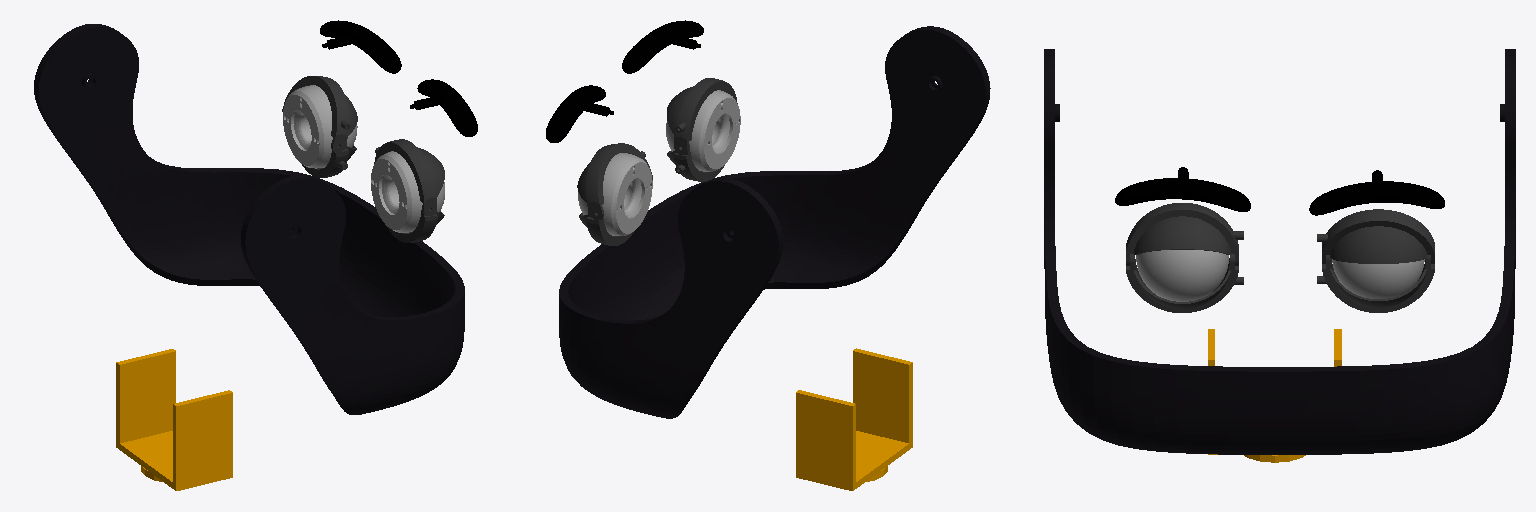
URDF robot description (doris_head):
<?xml version="1.0"?>
<!-- created with Phobos 1.0.1 "Capricious Choutengan" -->
  <robot name="doris_head">

    <link name="head_link">
      <inertial>
        <origin xyz="0 0 0" rpy="0 0 0"/>
        <mass value="0.001"/>
        <inertia ixx="0.001" ixy="0" ixz="0" iyy="0.001" iyz="0" izz="0.001"/>
      </inertial>
      <visual name="head">
        <origin xyz="-0.02248 -0.11374 -0.02141" rpy="1.5708 0 0"/>
        <geometry>
          <mesh filename="package://rosto_teste/meshes/dae/Cube.001.dae" scale="0.001 0.001 0.001"/>
        </geometry>
        <material name="Gray_001"/>
      </visual>
    </link>

    <link name="jaw_link">
      <inertial>
        <origin xyz="0 0 0" rpy="0 0 0"/>
        <mass value="0.001"/>
        <inertia ixx="0.001" ixy="0" ixz="0" iyy="0.001" iyz="0" izz="0.001"/>
      </inertial>
      <visual name="jaw">
        <origin xyz="0.05463 0.06043 -0.08008" rpy="1.5708 0 0"/>
        <geometry>
          <mesh filename="package://rosto_teste/meshes/dae/Plane.012.dae" scale="0.001 0.001 0.001"/>
        </geometry>
        <material name="Face_000"/>
      </visual>
    </link>

    <link name="left_eye_horizontal_link">
      <inertial>
        <origin xyz="0 0 0" rpy="0 0 0"/>
        <mass value="0.001"/>
        <inertia ixx="0.001" ixy="0" ixz="0" iyy="0.001" iyz="0" izz="0.001"/>
      </inertial>
    </link>

    <link name="left_eye_vertical_link">
      <inertial>
        <origin xyz="0 0 0" rpy="0 0 0"/>
        <mass value="0.001"/>
        <inertia ixx="0.001" ixy="0" ixz="0" iyy="0.001" iyz="0" izz="0.001"/>
      </inertial>
      <visual name="left_eye">
        <origin xyz="0 0 0" rpy="-1.5708 0 0"/>
        <geometry>
          <mesh filename="package://rosto_teste/meshes/dae/Cube.002.dae" scale="0.001 0.001 0.001"/>
        </geometry>
        <material name="WHITE_003"/>
      </visual>
    </link>

    <link name="left_inferior_eyelid_link">
      <inertial>
        <origin xyz="0 0 0" rpy="0 0 0"/>
        <mass value="0.001"/>
        <inertia ixx="0.001" ixy="0" ixz="0" iyy="0.001" iyz="0" izz="0.001"/>
      </inertial>
      <visual name="left_inferior_eyelid">
        <origin xyz="0.00498 -0.01247 -0.02356" rpy="-1.56706 -0.06102 -0.06125"/>
        <geometry>
          <mesh filename="package://rosto_teste/meshes/dae/Plane.015.dae" scale="0.001 0.001 0.001"/>
        </geometry>
        <material name="Gray_001"/>
      </visual>
    </link>

    <link name="left_rotacional_eyebrow_link">
      <inertial>
        <origin xyz="0 0 0" rpy="0 0 0"/>
        <mass value="0.001"/>
        <inertia ixx="0.001" ixy="0" ixz="0" iyy="0.001" iyz="0" izz="0.001"/>
      </inertial>
      <visual name="left_eyebrow">
        <origin xyz="0 0 0" rpy="0 0 0"/>
        <geometry>
          <mesh filename="package://rosto_teste/meshes/dae/Cylinder.004.dae" scale="0.001 0.001 0.001"/>
        </geometry>
        <material name="BLACK_006"/>
      </visual>
    </link>

    <link name="left_superior_eyelid_link">
      <inertial>
        <origin xyz="0 0 0" rpy="0 0 0"/>
        <mass value="0.001"/>
        <inertia ixx="0.001" ixy="0" ixz="0" iyy="0.001" iyz="0" izz="0.001"/>
      </inertial>
      <visual name="left_superior_eyelid">
        <origin xyz="0.00551 -0.01216 -0.01543" rpy="1.5708 -0.06113 0"/>
        <geometry>
          <mesh filename="package://rosto_teste/meshes/dae/Plane.001.dae" scale="0.001 0.001 0.001"/>
        </geometry>
        <material name="Gray_001"/>
      </visual>
    </link>

    <link name="left_vertical_eyebrow_link">
      <inertial>
        <origin xyz="0 0 0" rpy="0 0 0"/>
        <mass value="0.001"/>
        <inertia ixx="0.001" ixy="0" ixz="0" iyy="0.001" iyz="0" izz="0.001"/>
      </inertial>
    </link>

    <link name="neck_link">
      <inertial>
        <origin xyz="0 0 0" rpy="0 0 0"/>
        <mass value="0.001"/>
        <inertia ixx="0.001" ixy="0" ixz="0" iyy="0.001" iyz="0" izz="0.001"/>
      </inertial>
      <visual name="neck">
        <origin xyz="0 0 0" rpy="0 0 0"/>
        <geometry>
          <mesh filename="package://rosto_teste/meshes/dae/Cube.055.dae" scale="0.01 0.01 0.01"/>
        </geometry>
      </visual>
    </link>

    <link name="right_rotacional_eyebrow_link">
      <inertial>
        <origin xyz="0 0 0" rpy="0 0 0"/>
        <mass value="0.001"/>
        <inertia ixx="0.001" ixy="0" ixz="0" iyy="0.001" iyz="0" izz="0.001"/>
      </inertial>
      <visual name="right_eyebrow">
        <origin xyz="0 0 0" rpy="0 0 0"/>
        <geometry>
          <mesh filename="package://rosto_teste/meshes/dae/Cylinder.005.dae" scale="0.001 0.001 0.001"/>
        </geometry>
        <material name="BLACK_007"/>
      </visual>
    </link>

    <link name="right_vertical_eyebrow_link">
      <inertial>
        <origin xyz="0 0 0" rpy="0 0 0"/>
        <mass value="0.001"/>
        <inertia ixx="0.001" ixy="0" ixz="0" iyy="0.001" iyz="0" izz="0.001"/>
      </inertial>
    </link>

    <link name="right_eye_horizontal_link">
      <inertial>
        <origin xyz="0 0 0" rpy="0 0 0"/>
        <mass value="0.001"/>
        <inertia ixx="0.001" ixy="0" ixz="0" iyy="0.001" iyz="0" izz="0.001"/>
      </inertial>
    </link>

    <link name="right_eye_vertical_link">
      <inertial>
        <origin xyz="0 0 0" rpy="0 0 0"/>
        <mass value="0.001"/>
        <inertia ixx="0.001" ixy="0" ixz="0" iyy="0.001" iyz="0" izz="0.001"/>
      </inertial>
      <visual name="right_eye">
        <origin xyz="0 0 0" rpy="-1.5708 0 0"/>
        <geometry>
          <mesh filename="package://rosto_teste/meshes/dae/Cube.007.dae" scale="0.001 0.001 0.001"/>
        </geometry>
        <material name="WHITE_004"/>
      </visual>
    </link>

    <link name="right_inferior_eyelid_link">
      <inertial>
        <origin xyz="0 0 0" rpy="0 0 0"/>
        <mass value="0.001"/>
        <inertia ixx="0.001" ixy="0" ixz="0" iyy="0.001" iyz="0" izz="0.001"/>
      </inertial>
      <visual name="right_inferior_eyelid">
        <origin xyz="0.0038 -0.01141 -0.01966" rpy="-1.5708 0 0"/>
        <geometry>
          <mesh filename="package://rosto_teste/meshes/dae/Plane.013.dae" scale="0.001 0.001 0.001"/>
        </geometry>
        <material name="Gray_001"/>
      </visual>
    </link>

    <link name="right_superior_eyelid_link">
      <inertial>
        <origin xyz="0 0 0" rpy="0 0 0"/>
        <mass value="0.001"/>
        <inertia ixx="0.001" ixy="0" ixz="0" iyy="0.001" iyz="0" izz="0.001"/>
      </inertial>
      <visual name="right_superior_eyelid">
        <origin xyz="0.00701 -0.01106 -0.01469" rpy="1.5708 0 0.3358"/>
        <geometry>
          <mesh filename="package://rosto_teste/meshes/dae/Plane.014.dae" scale="0.001 0.001 0.001"/>
        </geometry>
        <material name="Gray_001"/>
      </visual>
    </link>

    <link name="head_root">
      <inertial>
        <origin xyz="0 0 0" rpy="0 0 0"/>
        <mass value="0.001"/>
        <inertia ixx="0.001" ixy="0" ixz="0" iyy="0.001" iyz="0" izz="0.001"/>
      </inertial>
    </link>

    <joint name="horizontal_neck_joint" type="revolute">
      <origin xyz="0 0 0" rpy="0 0 1.5708"/>
      <parent link="head_root"/>
      <child link="neck_link"/>
      <axis xyz="0 0 1.0"/>
      <limit lower="-0.86" upper="0.86" effort="1.0" velocity="10"/>
    </joint>

    <joint name="jaw_joint" type="revolute">
      <origin xyz="0.00668 -0.10888 0.05845" rpy="0 0 0"/>
      <parent link="head_link"/>
      <child link="jaw_link"/>
      <axis xyz="0 0 1.0"/>
      <limit lower="0" upper="0.5" effort="1.0" velocity="10"/>
    </joint>

    <joint name="left_eye_horizontal_joint" type="revolute">
      <origin xyz="0.09352 -0.08739 -0.05892" rpy="1.5708 0 0"/>
      <parent link="head_link"/>
      <child link="left_eye_horizontal_link"/>
      <axis xyz="0 0 1.0"/>
      <limit lower="-0.27453" upper="0.7854" effort="1.0" velocity="10"/>
    </joint>

    <joint name="left_eye_vertical_joint" type="revolute">
      <origin xyz="0 0 0" rpy="1.5708 0 0"/>
      <parent link="left_eye_horizontal_link"/>
      <child link="left_eye_vertical_link"/>
      <axis xyz="0 0 1.0"/>
      <limit lower="-0.17453" upper="0.7854" effort="1.0" velocity="10"/>
    </joint>

    <joint name="left_inferior_eyelid_joint" type="revolute">
      <origin xyz="0.09208 -0.08718 -0.0824" rpy="-3.14159 -0.06113 0"/>
      <parent link="head_link"/>
      <child link="left_inferior_eyelid_link"/>
      <axis xyz="0 0 1.0"/>
      <limit lower="-0.17453" upper="0.7854" effort="1.0" velocity="10"/>
    </joint>

    <joint name="left_rotacional_eyebrow_joint" type="revolute">
      <origin xyz="0 0 0" rpy="2e-05 1.57091 6e-05"/>
      <parent link="left_vertical_eyebrow_link"/>
      <child link="left_rotacional_eyebrow_link"/>
      <axis xyz="0 0 1.0"/>
      <limit lower="-0.17453" upper="0.4" effort="1.0" velocity="10"/>
    </joint>

    <joint name="left_superior_eyelid_joint" type="revolute">
      <origin xyz="0.09123 -0.0871 -0.04284" rpy="0 0.06113 0"/>
      <parent link="head_link"/>
      <child link="left_superior_eyelid_link"/>
      <axis xyz="0 0 1.0"/>
      <limit lower="-0.17453" upper="0.4" effort="1.0" velocity="10"/>
    </joint>

    <joint name="left_vertical_eyebrow_joint" type="prismatic">
      <origin xyz="0.1119 -0.12427 -0.0587" rpy="1.5708 0 -0.00012"/>
      <parent link="head_link"/>
      <child link="left_vertical_eyebrow_link"/>
      <axis xyz="0 0 1.0"/>
      <limit lower="0" upper="0.02" effort="1.0" velocity="10"/>
    </joint>

    <joint name="right_rotacional_eyebrow_joint" type="revolute">
      <origin xyz="0 0 0" rpy="0 1.5708 0"/>
      <parent link="right_vertical_eyebrow_link"/>
      <child link="right_rotacional_eyebrow_link"/>
      <axis xyz="0 0 1.0"/>
      <limit lower="-0.4" upper="0.17453" effort="1.0" velocity="10"/>
    </joint>

    <joint name="right_vertical_eyebrow_joint" type="prismatic">
      <origin xyz="0.1119 -0.12289 0.01565" rpy="1.5708 0 0"/>
      <parent link="head_link"/>
      <child link="right_vertical_eyebrow_link"/>
      <axis xyz="0 0 1.0"/>
      <limit lower="0" upper="0.02" effort="1.0" velocity="10"/>
    </joint>

    <joint name="right_eye_horizontal_joint" type="revolute">
      <origin xyz="0.09352 -0.08739 0.01605" rpy="1.5708 0 0"/>
      <parent link="head_link"/>
      <child link="right_eye_horizontal_link"/>
      <axis xyz="0 0 1.0"/>
      <limit lower="-0.27453" upper="0.4" effort="1.0" velocity="10"/>
    </joint>

    <joint name="right_eye_vertical_joint" type="revolute">
      <origin xyz="0 0 0" rpy="1.5708 0 0"/>
      <parent link="right_eye_horizontal_link"/>
      <child link="right_eye_vertical_link"/>
      <axis xyz="0 0 1.0"/>
      <limit lower="-0.2" upper="0.7854" effort="1.0" velocity="10"/>
    </joint>

    <joint name="right_inferior_eyelid_joint" type="revolute">
      <origin xyz="0.09188 -0.08649 -0.00398" rpy="-3.14159 0 0"/>
      <parent link="head_link"/>
      <child link="right_inferior_eyelid_link"/>
      <axis xyz="0 0 1.0"/>
      <limit lower="-0.17" upper="0.7854" effort="1.0" velocity="10"/>
    </joint>

    <joint name="right_superior_eyelid_joint" type="revolute">
      <origin xyz="0.09073 -0.08626 0.03037" rpy="0 0 0"/>
      <parent link="head_link"/>
      <child link="right_superior_eyelid_link"/>
      <axis xyz="0 0 1.0"/>
      <limit lower="-0.4" upper="0.17" effort="1.0" velocity="10"/>
    </joint>

    <joint name="vertical_neck_joint" type="revolute">
      <origin xyz="0.02367 -0.00121 0.01929" rpy="-1.5708 0 -1.5708"/>
      <parent link="neck_link"/>
      <child link="head_link"/>
      <axis xyz="0 0 1.0"/>
      <limit lower="0" upper="0.5" effort="1.0" velocity="10"/>
    </joint>
    
    <transmission name="tran1">
    <type>transmission_interface/SimpleTransmission</type>
    <joint name="horizontal_neck_joint">
      <hardwareInterface>hardware_interface/EffortJointInterface</hardwareInterface>
    </joint>
    <actuator name="motor1">
      <hardwareInterface>hardware_interface/EffortJointInterface</hardwareInterface>
      <mechanicalReduction>1</mechanicalReduction>
    </actuator>
  </transmission>

  <transmission name="tran2">
    <type>transmission_interface/SimpleTransmission</type>
    <joint name="vertical_neck_joint">
      <hardwareInterface>hardware_interface/EffortJointInterface</hardwareInterface>
    </joint>
    <actuator name="motor2">
      <hardwareInterface>hardware_interface/EffortJointInterface</hardwareInterface>
      <mechanicalReduction>1</mechanicalReduction>
    </actuator>
  </transmission>

  <transmission name="tran3">
    <type>transmission_interface/SimpleTransmission</type>
    <joint name="jaw_joint">
      <hardwareInterface>hardware_interface/EffortJointInterface</hardwareInterface>
    </joint>
    <actuator name="motor3">
      <hardwareInterface>hardware_interface/EffortJointInterface</hardwareInterface>
      <mechanicalReduction>1</mechanicalReduction>
    </actuator>
  </transmission>

  <transmission name="tran4">
    <type>transmission_interface/SimpleTransmission</type>
    <joint name="right_vertical_eyebrow_joint">
      <hardwareInterface>hardware_interface/EffortJointInterface</hardwareInterface>
    </joint>
    <actuator name="motor4">
      <hardwareInterface>hardware_interface/EffortJointInterface</hardwareInterface>
      <mechanicalReduction>1</mechanicalReduction>
    </actuator>
  </transmission>

  <transmission name="tran5">
    <type>transmission_interface/SimpleTransmission</type>
    <joint name="left_vertical_eyebrow_joint">
      <hardwareInterface>hardware_interface/EffortJointInterface</hardwareInterface>
    </joint>
    <actuator name="motor5">
      <hardwareInterface>hardware_interface/EffortJointInterface</hardwareInterface>
      <mechanicalReduction>1</mechanicalReduction>
    </actuator>
  </transmission>

  <transmission name="tran6">
    <type>transmission_interface/SimpleTransmission</type>
    <joint name="right_rotacional_eyebrow_joint">
      <hardwareInterface>hardware_interface/EffortJointInterface</hardwareInterface>
    </joint>
    <actuator name="motor6">
      <hardwareInterface>hardware_interface/EffortJointInterface</hardwareInterface>
      <mechanicalReduction>1</mechanicalReduction>
    </actuator>
  </transmission>

  <transmission name="tran7">
    <type>transmission_interface/SimpleTransmission</type>
    <joint name="left_rotacional_eyebrow_joint">
      <hardwareInterface>hardware_interface/EffortJointInterface</hardwareInterface>
    </joint>
    <actuator name="motor7">
      <hardwareInterface>hardware_interface/EffortJointInterface</hardwareInterface>
      <mechanicalReduction>1</mechanicalReduction>
    </actuator>
  </transmission>

  <transmission name="tran8">
    <type>transmission_interface/SimpleTransmission</type>
    <joint name="right_superior_eyelid_joint">
      <hardwareInterface>hardware_interface/EffortJointInterface</hardwareInterface>
    </joint>
    <actuator name="motor8">
      <hardwareInterface>hardware_interface/EffortJointInterface</hardwareInterface>
      <mechanicalReduction>1</mechanicalReduction>
    </actuator>
  </transmission>

  <transmission name="tran9">
    <type>transmission_interface/SimpleTransmission</type>
    <joint name="left_superior_eyelid_joint">
      <hardwareInterface>hardware_interface/EffortJointInterface</hardwareInterface>
    </joint>
    <actuator name="motor9">
      <hardwareInterface>hardware_interface/EffortJointInterface</hardwareInterface>
      <mechanicalReduction>1</mechanicalReduction>
    </actuator>
  </transmission>

  <transmission name="tran10">
    <type>transmission_interface/SimpleTransmission</type>
    <joint name="right_inferior_eyelid_joint">
      <hardwareInterface>hardware_interface/EffortJointInterface</hardwareInterface>
    </joint>
    <actuator name="motor10">
      <hardwareInterface>hardware_interface/EffortJointInterface</hardwareInterface>
      <mechanicalReduction>1</mechanicalReduction>
    </actuator>
  </transmission>

  <transmission name="tran11">
    <type>transmission_interface/SimpleTransmission</type>
    <joint name="left_inferior_eyelid_joint">
      <hardwareInterface>hardware_interface/EffortJointInterface</hardwareInterface>
    </joint>
    <actuator name="motor11">
      <hardwareInterface>hardware_interface/EffortJointInterface</hardwareInterface>
      <mechanicalReduction>1</mechanicalReduction>
    </actuator>
  </transmission>

  <transmission name="tran12">
    <type>transmission_interface/SimpleTransmission</type>
    <joint name="right_eye_horizontal_joint">
      <hardwareInterface>hardware_interface/EffortJointInterface</hardwareInterface>
    </joint>
    <actuator name="motor12">
      <hardwareInterface>hardware_interface/EffortJointInterface</hardwareInterface>
      <mechanicalReduction>1</mechanicalReduction>
    </actuator>
  </transmission>

  <transmission name="tran13">
    <type>transmission_interface/SimpleTransmission</type>
    <joint name="left_eye_horizontal_joint">
      <hardwareInterface>hardware_interface/EffortJointInterface</hardwareInterface>
    </joint>
    <actuator name="motor13">
      <hardwareInterface>hardware_interface/EffortJointInterface</hardwareInterface>
      <mechanicalReduction>1</mechanicalReduction>
    </actuator>
  </transmission>

  <transmission name="tran14">
    <type>transmission_interface/SimpleTransmission</type>
    <joint name="right_eye_vertical_joint">
      <hardwareInterface>hardware_interface/EffortJointInterface</hardwareInterface>
    </joint>
    <actuator name="motor14">
      <hardwareInterface>hardware_interface/EffortJointInterface</hardwareInterface>
      <mechanicalReduction>1</mechanicalReduction>
    </actuator>
  </transmission>

  <transmission name="tran15">
    <type>transmission_interface/SimpleTransmission</type>
    <joint name="left_eye_vertical_joint">
      <hardwareInterface>hardware_interface/EffortJointInterface</hardwareInterface>
    </joint>
    <actuator name="motor15">
      <hardwareInterface>hardware_interface/EffortJointInterface</hardwareInterface>
      <mechanicalReduction>1</mechanicalReduction>
    </actuator>
  </transmission>

  <gazebo>
    <plugin name="gazebo_ros_control" filename="libgazebo_ros_control.so">
      <robotNamespace>/doris_head</robotNamespace>
    </plugin>
  </gazebo>
    
    <material name="BLACK_006">
      <color rgba="0.00291 0.00291 0.00291 1.0"/>
    </material>

    <material name="BLACK_007">
      <color rgba="0.00291 0.00291 0.00291 1.0"/>
    </material>

    <material name="Face_000">
      <color rgba="0.10651 0.09584 0.11784 1.0"/>
    </material>

    <material name="Gray_001">
      <color rgba="0.24256 0.24256 0.24256 1.0"/>
    </material>

    <material name="WHITE_003">
      <color rgba="0.64 0.64 0.64 1.0"/>
    </material>

    <material name="WHITE_004">
      <color rgba="0.64 0.64 0.64 1.0"/>
    </material>

  </robot>

--- Facts derived from the render (not from the file) ---
3 views of the same robot in one strip: view 1: azimuth 30°, elevation 25°; view 2: azimuth 150°, elevation 25°; view 3: azimuth 270°, elevation 25° (orthographic).
Model doris_head with 16 links and 15 joints (13 revolute, 2 prismatic), rooted at head_root, posed every joint at zero.
Links seen in each view (by area): view 1: jaw_link, neck_link, right_eye_vertical_link, left_eye_vertical_link, left_superior_eyelid_link, right_rotacional_eyebrow_link, right_superior_eyelid_link, left_rotacional_eyebrow_link, left_inferior_eyelid_link, right_inferior_eyelid_link; view 2: jaw_link, neck_link, right_eye_vertical_link, left_eye_vertical_link, left_superior_eyelid_link, left_rotacional_eyebrow_link, right_superior_eyelid_link, right_rotacional_eyebrow_link, left_inferior_eyelid_link, right_inferior_eyelid_link; view 3: jaw_link, right_superior_eyelid_link, left_superior_eyelid_link, left_eye_vertical_link, right_rotacional_eyebrow_link, left_rotacional_eyebrow_link, right_eye_vertical_link, right_inferior_eyelid_link, left_inferior_eyelid_link, neck_link.
Link boxes in pixels (box(x1,y1,x2,y2)): jaw_link: box(34, 24, 464, 414); neck_link: box(116, 349, 232, 490); right_eye_vertical_link: box(283, 85, 357, 168); left_eye_vertical_link: box(371, 151, 444, 232); left_superior_eyelid_link: box(374, 139, 444, 215); right_rotacional_eyebrow_link: box(320, 20, 401, 73); right_superior_eyelid_link: box(282, 76, 357, 152); left_rotacional_eyebrow_link: box(410, 79, 477, 136); left_inferior_eyelid_link: box(387, 205, 444, 242); right_inferior_eyelid_link: box(302, 143, 356, 177); jaw_link: box(559, 26, 990, 418); neck_link: box(796, 348, 912, 490); right_eye_vertical_link: box(578, 153, 652, 235); left_eye_vertical_link: box(666, 90, 740, 171); left_superior_eyelid_link: box(667, 78, 737, 154); left_rotacional_eyebrow_link: box(622, 20, 703, 73); right_superior_eyelid_link: box(577, 143, 652, 220); right_rotacional_eyebrow_link: box(546, 85, 613, 142); left_inferior_eyelid_link: box(667, 144, 724, 181); right_inferior_eyelid_link: box(579, 209, 633, 245); jaw_link: box(1044, 49, 1515, 454); right_superior_eyelid_link: box(1317, 209, 1434, 263); left_superior_eyelid_link: box(1126, 203, 1243, 265); left_eye_vertical_link: box(1136, 250, 1228, 301); right_rotacional_eyebrow_link: box(1309, 170, 1444, 215); left_rotacional_eyebrow_link: box(1115, 167, 1250, 211); right_eye_vertical_link: box(1332, 259, 1424, 298); right_inferior_eyelid_link: box(1317, 255, 1434, 312); left_inferior_eyelid_link: box(1126, 254, 1243, 312); neck_link: box(1208, 329, 1341, 462).
Bounding box of the posed robot: 0.1375 × 0.1804 × 0.1698 m (x, y, z).
Meshes: 11 distinct files referenced, 10 mesh visuals loaded (10 Collada DAE); not drawn: 1 (reference not matched to a file when rendering).
